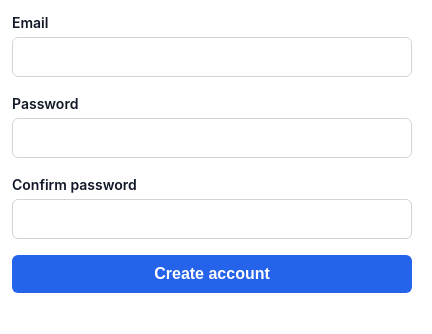
RegistrationForm › displays field validation errors
Type "bad@test.com" into the field labelled "Email".
click(212, 57); type("bad@test.com")  # box [12,37,412,77]
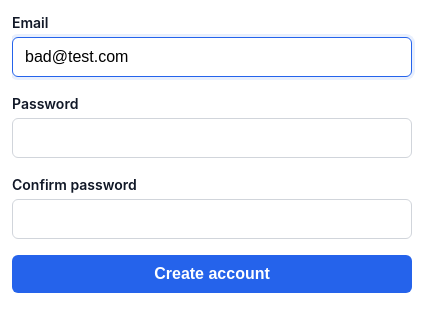
Type "password123" into the password field labelled "Password".
click(212, 138); type("password123")  # box [12,118,412,158]
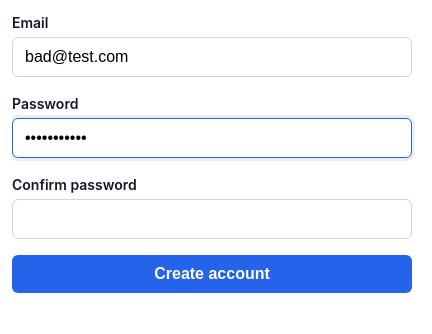
Type "password123" into the password field labelled "Confirm password".
click(212, 219); type("password123")  # box [12,199,412,239]
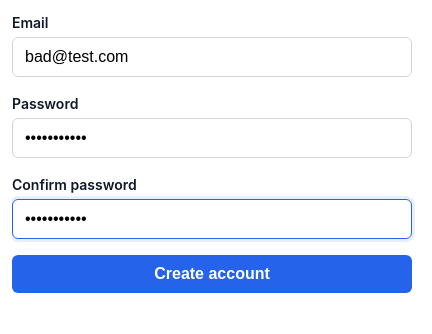
Click the button "Create account".
click(212, 274)  # box [12,255,412,293]
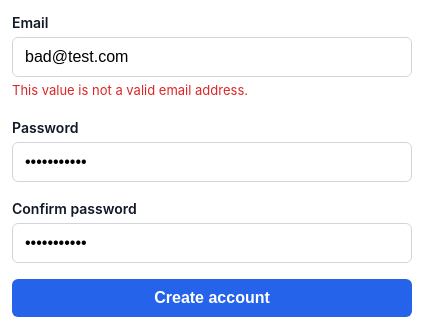
Result: the text "This value is not a valid email address." is shown at [12,82,248,98]
